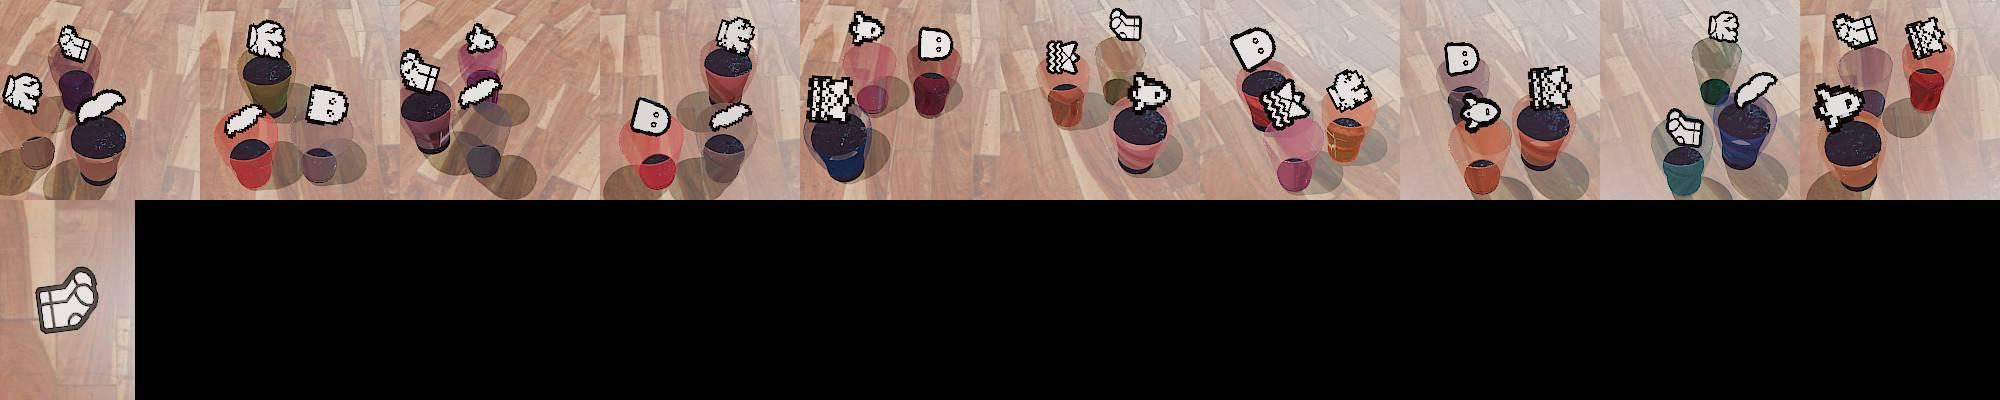icon: (33, 265, 99, 335), (1255, 76, 1312, 130), (1811, 83, 1866, 131), (806, 74, 857, 124), (1524, 65, 1573, 110), (1325, 68, 1372, 112), (1230, 27, 1276, 71), (1732, 70, 1778, 113), (399, 47, 441, 94), (1457, 92, 1503, 134), (1126, 71, 1172, 113), (302, 84, 349, 125), (1904, 17, 1948, 59), (1, 71, 42, 115), (1832, 13, 1879, 50), (245, 19, 286, 61), (714, 17, 756, 57), (630, 96, 672, 136), (77, 88, 126, 122), (457, 74, 503, 111), (1666, 106, 1705, 148), (223, 101, 265, 136), (708, 99, 753, 130), (1045, 38, 1080, 75), (1444, 41, 1481, 76), (917, 25, 954, 61), (848, 10, 885, 46), (1107, 8, 1143, 43), (57, 24, 92, 61), (1708, 10, 1740, 45), (464, 23, 497, 55)
